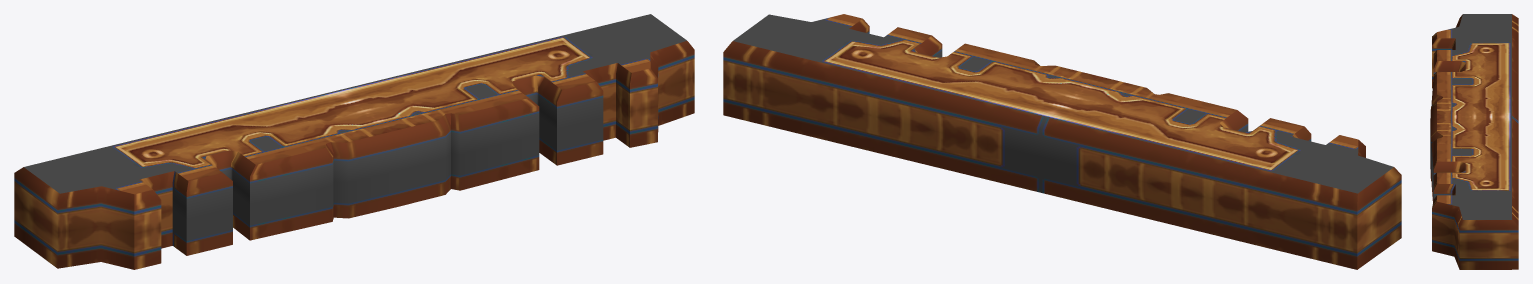
File: wall_03.fbx
3 renders of one model, left to right at view 1: azimuth 30°, elevation 25°; view 2: azimuth 150°, elevation 25°; view 3: azimuth 270°, elevation 25°, orthographic. The views are drawn at different scales.
Parts seen in each view (by area): view 1: wall_03; view 2: wall_03; view 3: wall_03.
Boxes of the visible parts, <box> form: wall_03: <box>14,14,694,269</box>; wall_03: <box>723,14,1401,269</box>; wall_03: <box>1430,14,1518,269</box>.
Size of the model in its own units: 9.01 by 0.9729 by 1.61.
